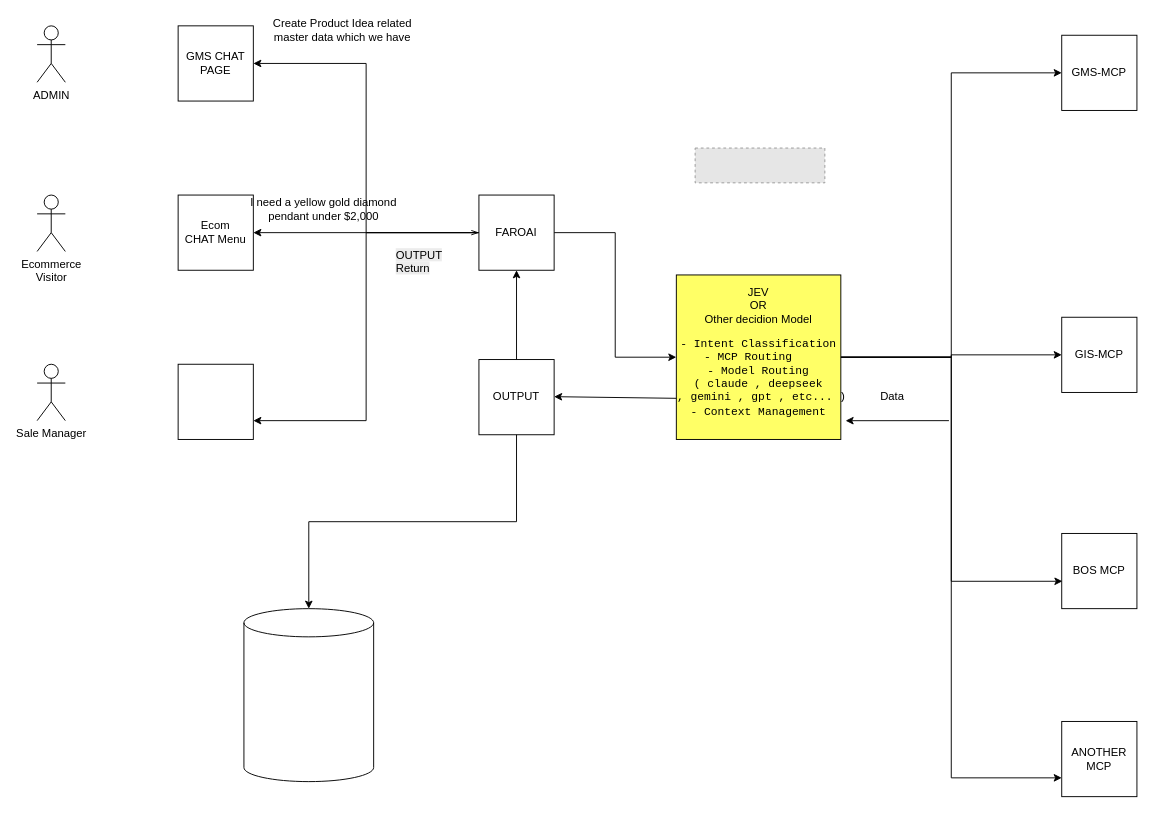
The diagram is 1153 pixels wide and 813 high, and some of its shapes have lost their labels. Grey dashed boxes stand in for pictures. The shapes that lost their labels are listed below. From the top down, each one's box as (x1, y1, x2, y2) in pixels, then its label:
(177, 363, 253, 439): Faro Chat Page
(243, 608, 374, 782): qdrant Vector Database for training localLLM
